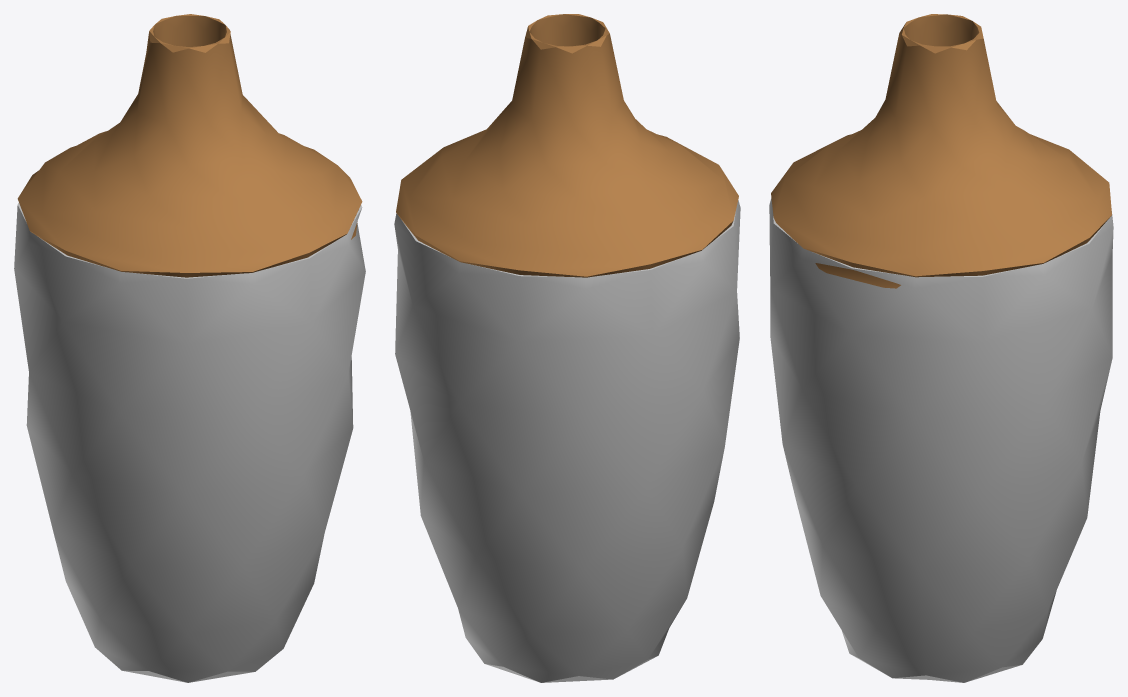
File: NFG-I0013.glb
3 renders of one model, left to right at view 1: azimuth 30°, elevation 25°; view 2: azimuth 150°, elevation 25°; view 3: azimuth 270°, elevation 25°, orthographic.
Visible parts, largest first — view 1: Ceramic and golden vase-01; view 2: Ceramic and golden vase-01; view 3: Ceramic and golden vase-01.
Boxes of the visible parts, x1,y1,x2,y2 form: Ceramic and golden vase-01: (14, 14, 365, 682); Ceramic and golden vase-01: (394, 14, 740, 682); Ceramic and golden vase-01: (769, 14, 1113, 682).
Bounding box in the file's own units: 1.01 × 2 × 1.01.
